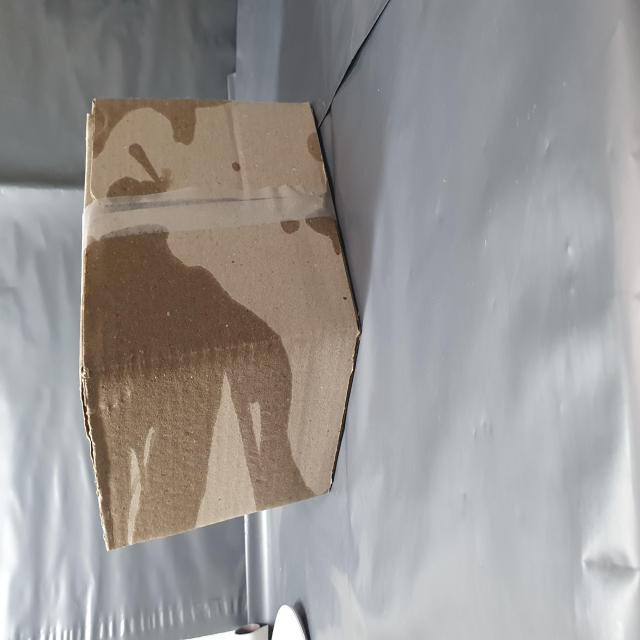wet: (53, 148, 230, 541)
